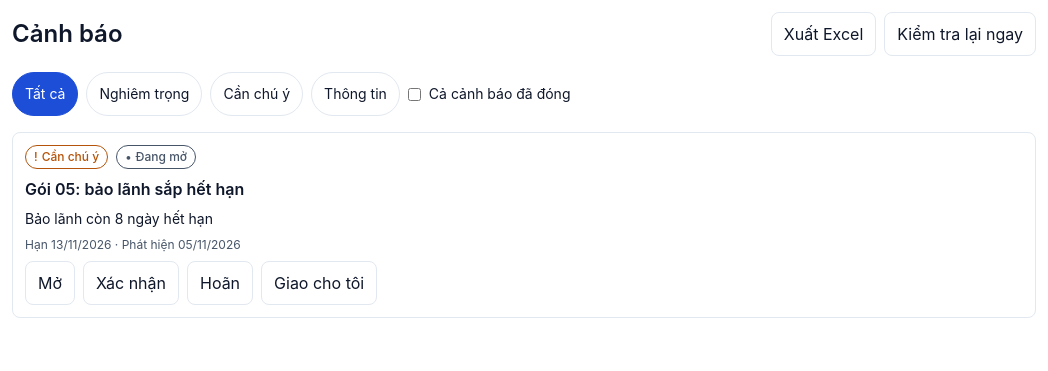
Test: AlertsPage › severity chips filter and the refresh button is for admin and director
Click the button "Nghiêm trọng".
click(144, 94)  # box [86,72,202,116]
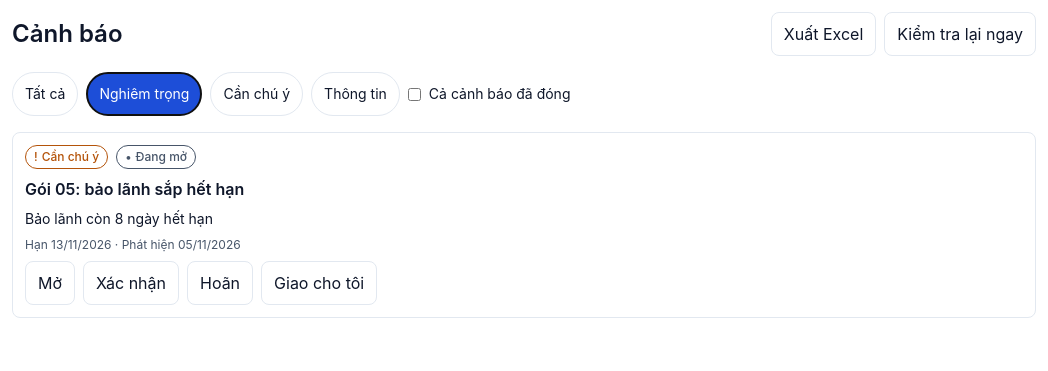
Click the button "Kiểm tra lại ngay".
click(960, 34)  # box [884,12,1036,56]
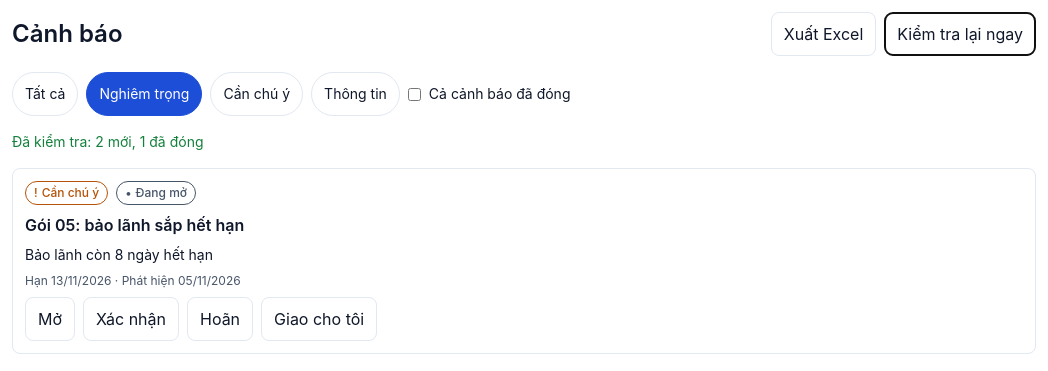
Now the message reads "Đã kiểm tra: 2 mới, 1 đã đóng", box [12,133,204,150]
